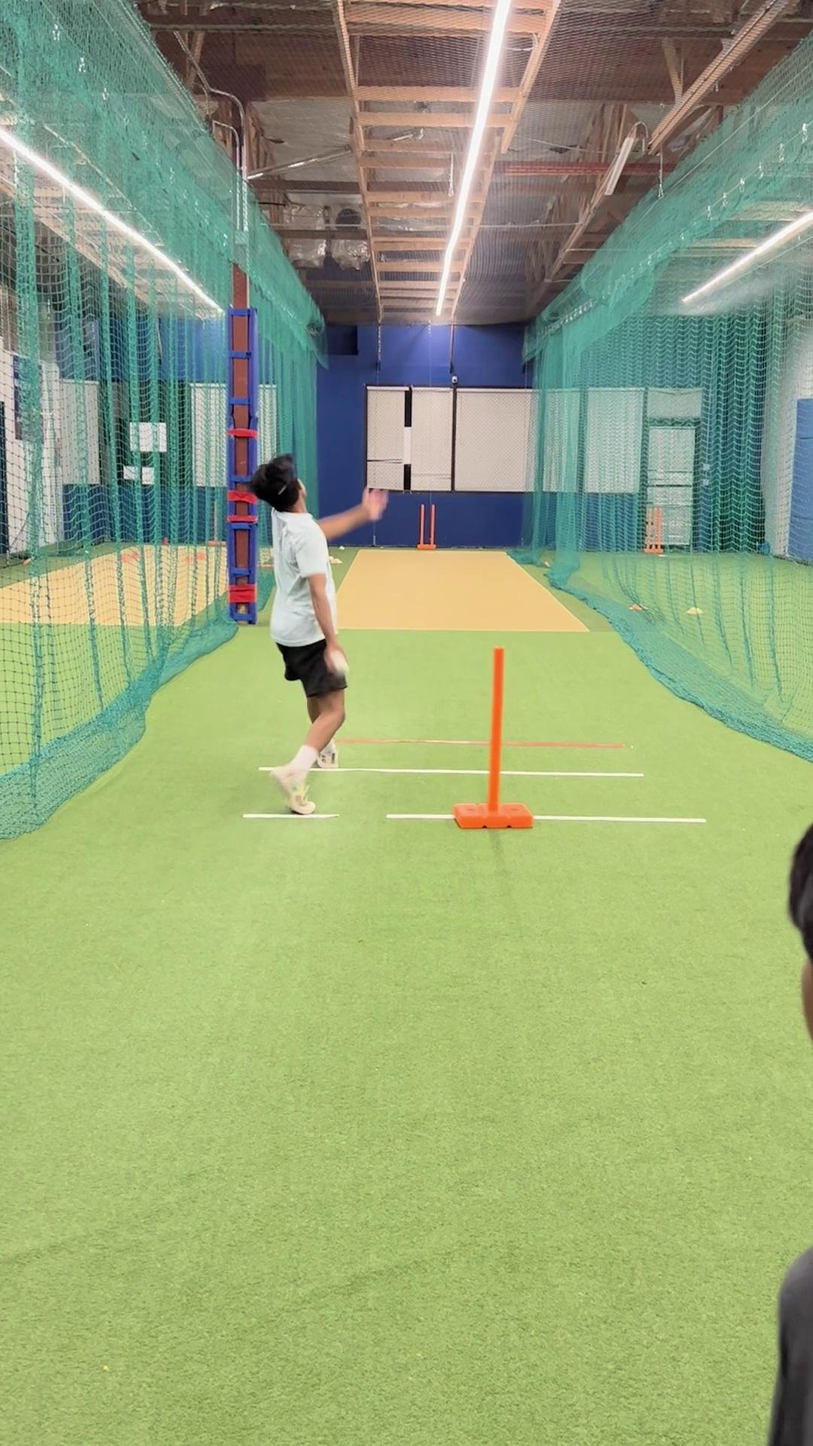ball: (324, 647, 356, 681)
